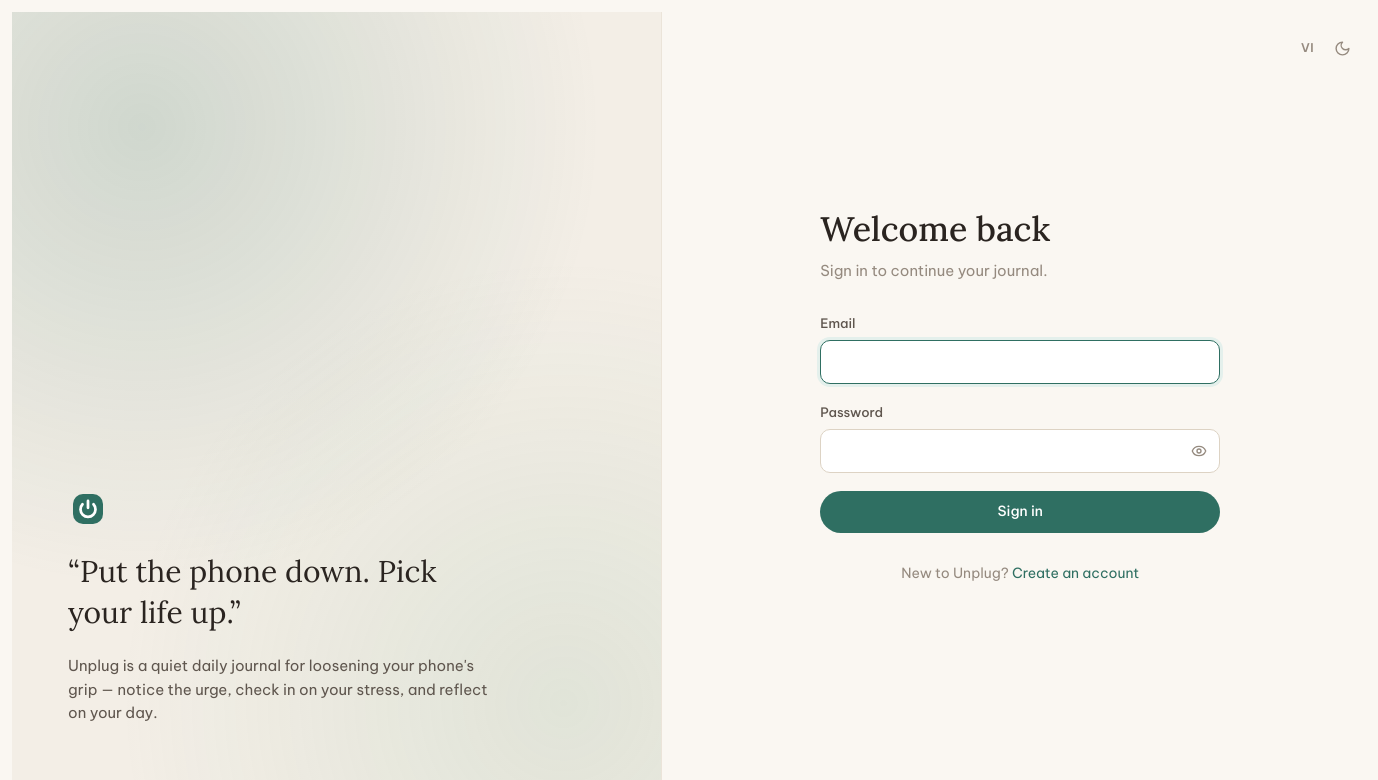
Test: SignIn › sends an unverified account to the verify page with a fresh code
Type "an@example.com" into the field labelled "Email" at x=1020, y=362, box [821, 341, 1219, 383]
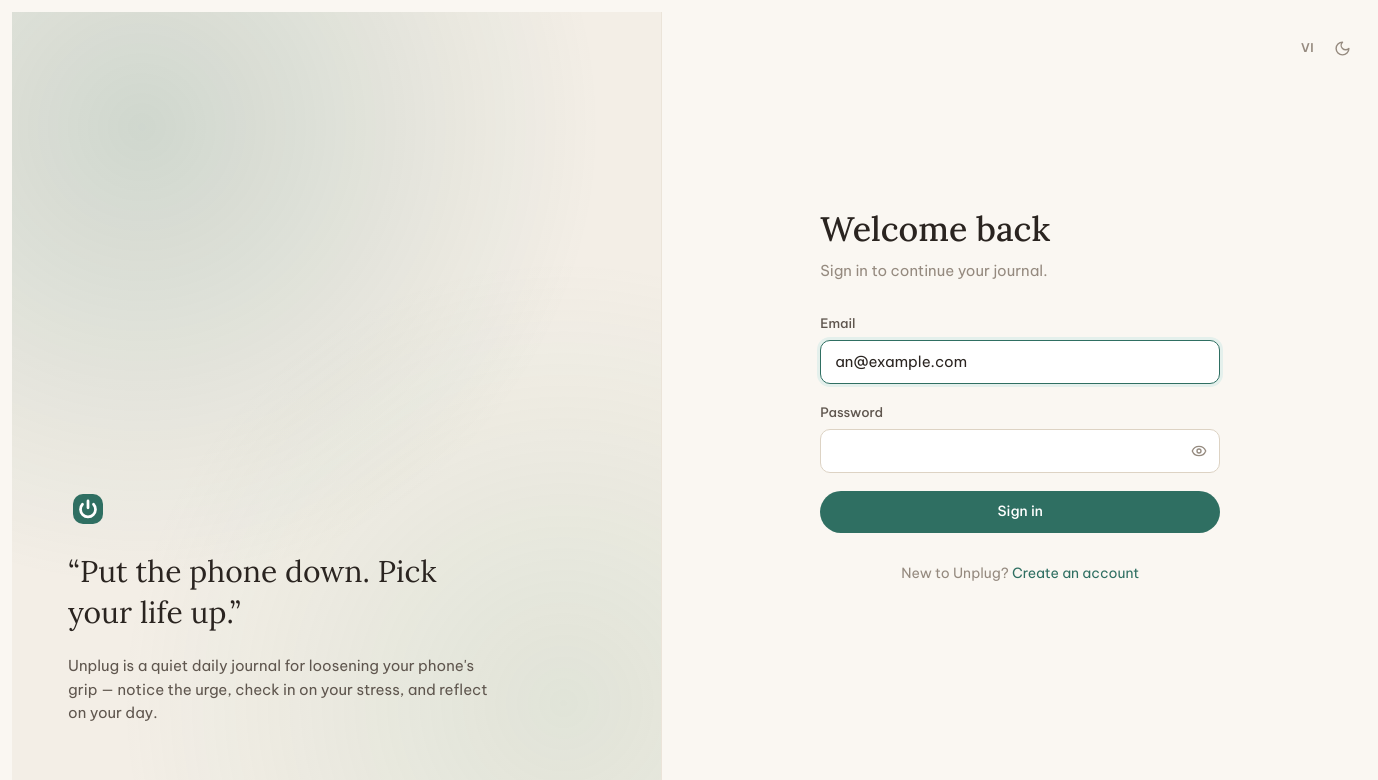
Type "Passw0rd!" into the password field labelled "Password" at x=1000, y=451, box [821, 430, 1179, 472]
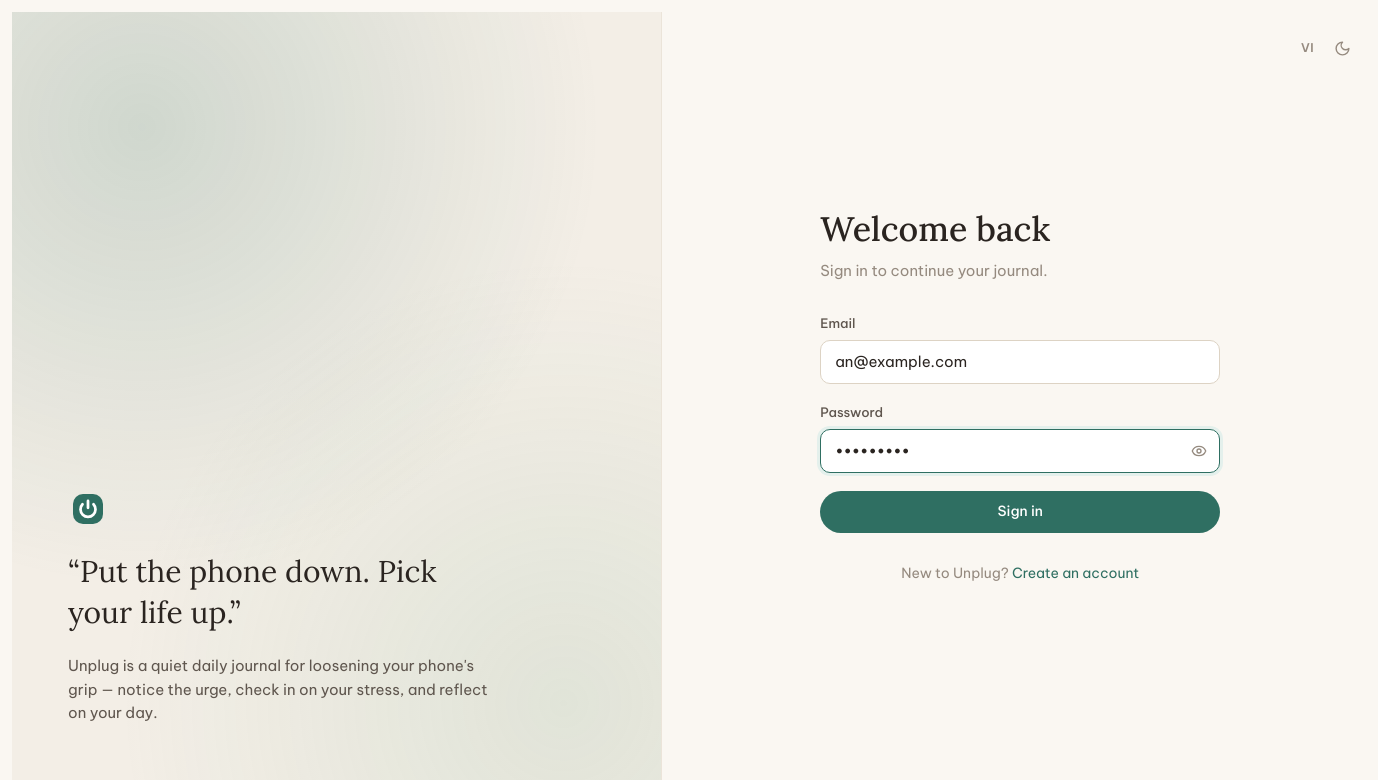
Click the button "Sign in" at x=1020, y=512, box [820, 491, 1220, 533]
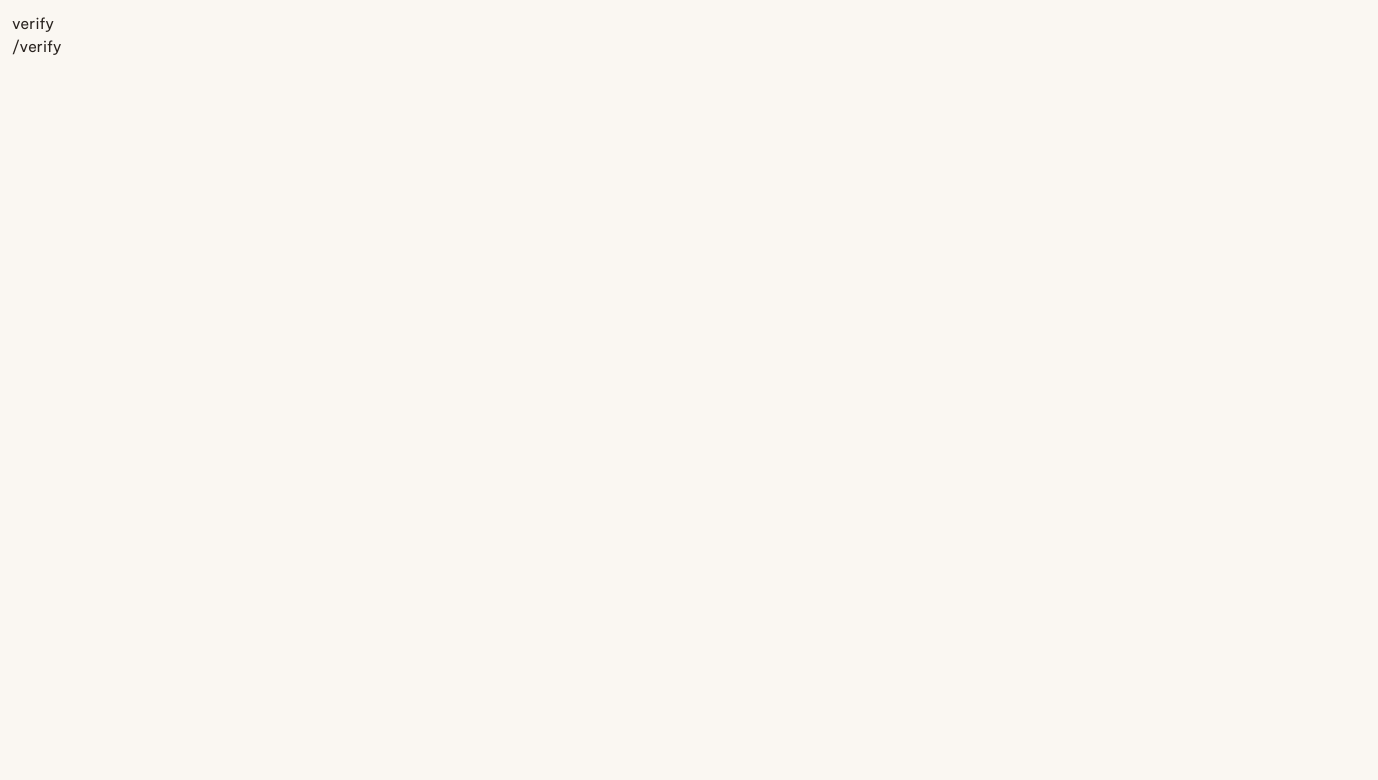
expect the text with test id "location" reads "/verify": met, box [12, 37, 62, 56]
